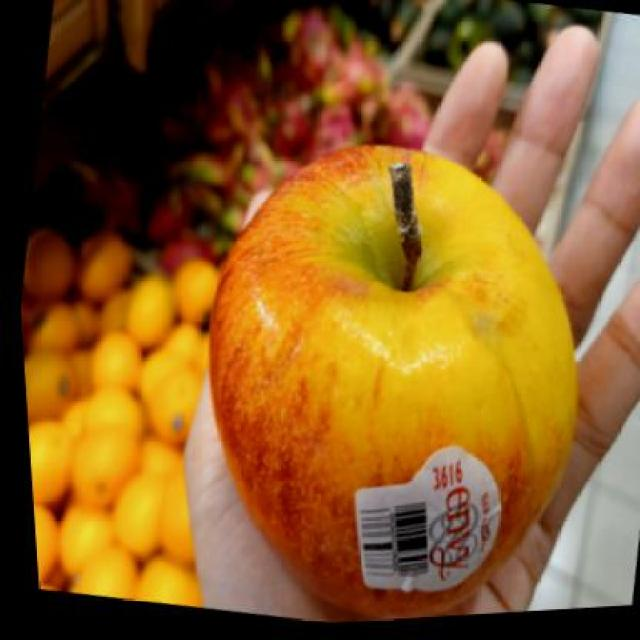Fresh Apple: (228, 138, 574, 620)
